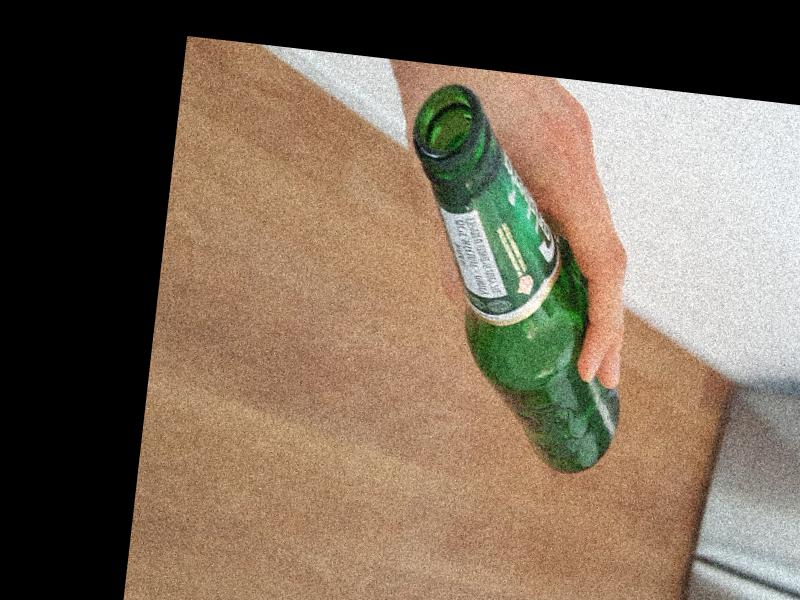Beer: (375, 78, 653, 478)
